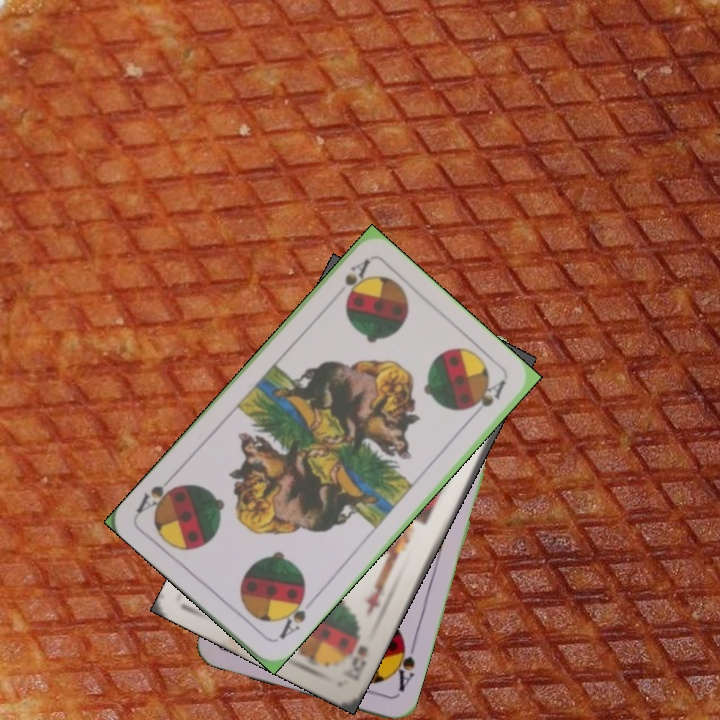SA: (274, 589, 309, 642), (388, 635, 419, 694), (340, 254, 373, 304)
SK: (339, 641, 371, 682)
